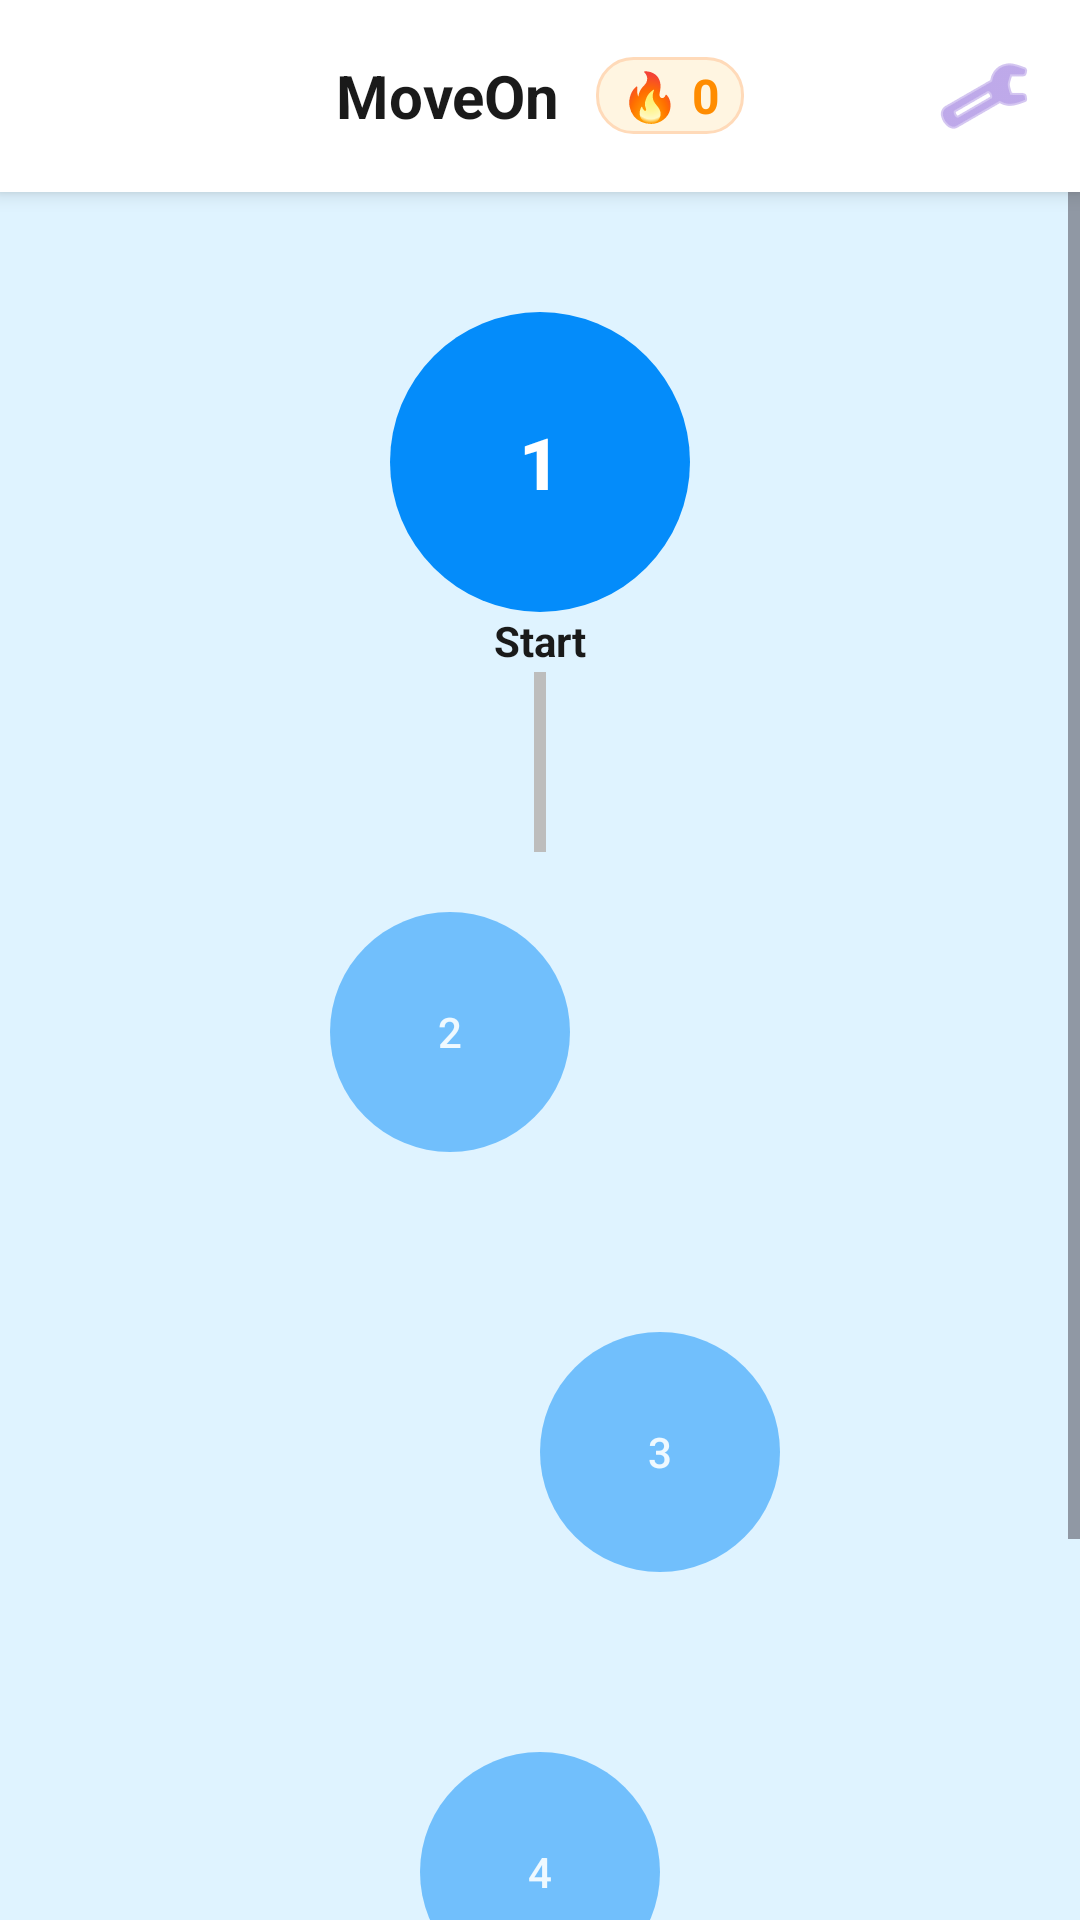

Icons on this 1080*1920 Android screen, each with its box as (x1, y1, x2, y2):
Settings: (941, 63, 1027, 129)
